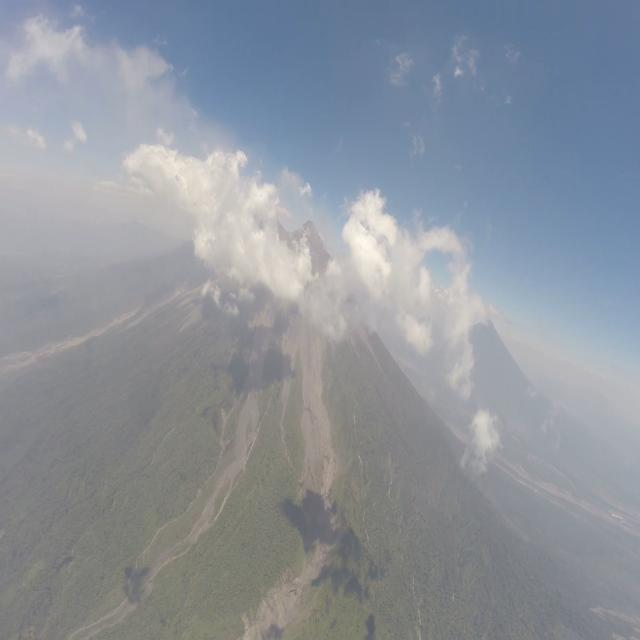Summit: (294, 217, 322, 238)
